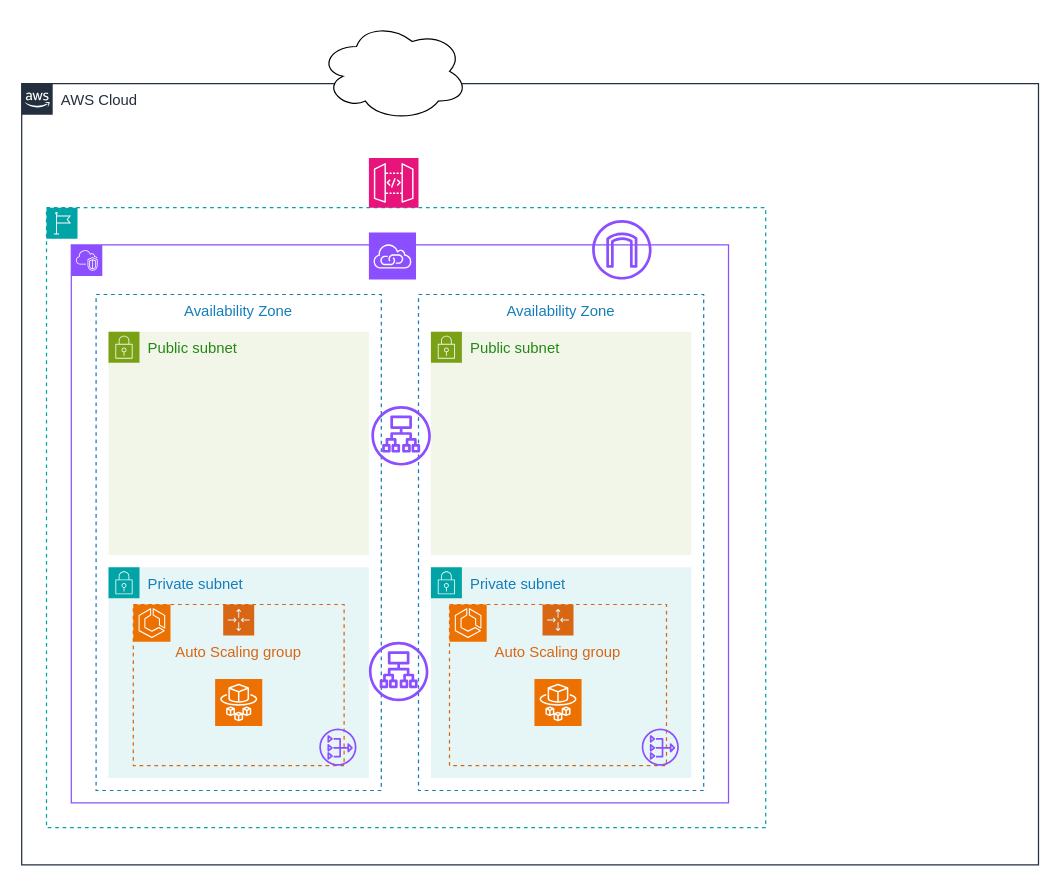
The diagram is 1060 pixels wide and 887 high, and some of its shapes have lost their labels. The box of each missing label's shape, as (x1, y1, x2, y2) in pixels:
Internet: (318, 20, 468, 121)
Region: (45, 206, 766, 828)
VPC: (70, 244, 728, 803)
